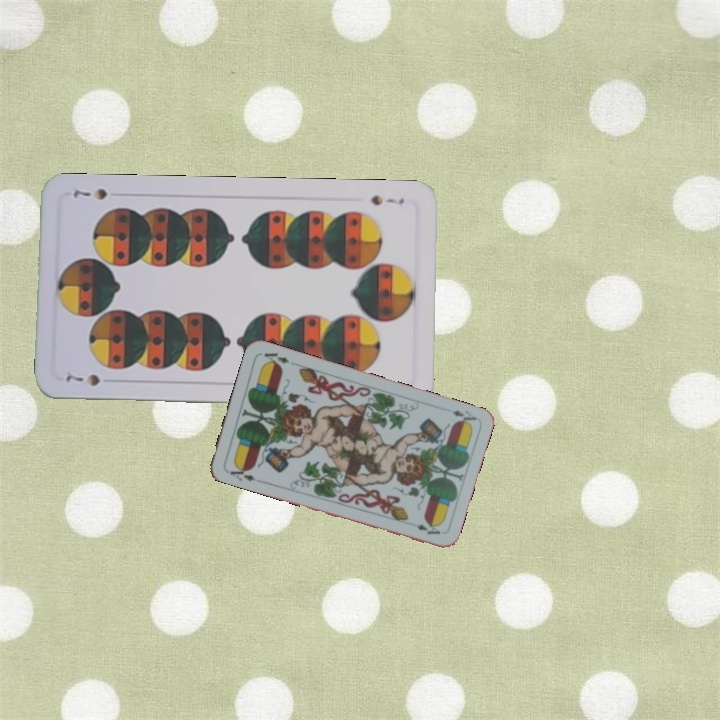EA: (223, 460, 262, 485), (448, 406, 479, 428)
S7: (62, 370, 103, 389), (366, 191, 406, 208)
